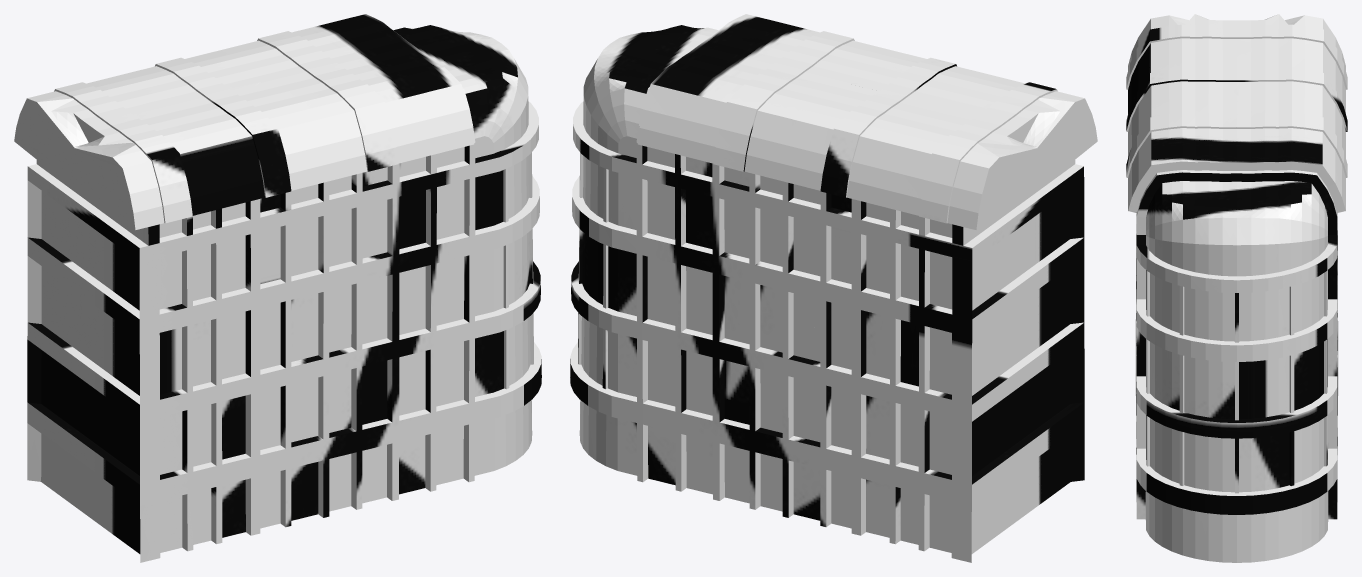
3 renders of one model, left to right at view 1: azimuth 30°, elevation 25°; view 2: azimuth 150°, elevation 25°; view 3: azimuth 270°, elevation 25°, orthographic. The views are drawn at different scales.
Visible parts, largest first — view 1: h_bd4_Part_20, h_bd4_Part_22, h_bd4_Part_5, h_bd4_Part_14, h_bd4_Part_30, h_bd4_Part_1, h_bd4_Part_17, h_bd4_Part_8, h_bd4_Part_9, h_bd4_Part_11, h_bd4_Part_26, h_bd4_Part_10 (+10 smaller); view 2: h_bd4_Part_7, h_bd4_Part_10, h_bd4_Part_4, h_bd4_Part_21, h_bd4_Part_2, h_bd4_Part_3, h_bd4_Part_15, h_bd4_Part_19, h_bd4_Part_11, h_bd4_Part_5, h_bd4_Part_27, h_bd4_Part_28 (+11 smaller); view 3: h_bd4_Part_17, h_bd4_Part_15, h_bd4_Part_29, h_bd4_Part_10, h_bd4_Part_6, h_bd4_Part_12, h_bd4_Part_23, h_bd4_Part_20, h_bd4_Part_11, h_bd4_Part_13, h_bd4_Part_2, h_bd4_Part_14 (+6 smaller).
Part boxes in pixels (x1,y1,x2,y2): h_bd4_Part_20: [187, 74, 418, 231]; h_bd4_Part_22: [69, 281, 310, 477]; h_bd4_Part_5: [76, 399, 290, 562]; h_bd4_Part_14: [366, 62, 501, 315]; h_bd4_Part_30: [277, 193, 395, 404]; h_bd4_Part_1: [77, 183, 260, 341]; h_bd4_Part_17: [386, 42, 538, 255]; h_bd4_Part_8: [282, 408, 461, 527]; h_bd4_Part_9: [327, 295, 508, 418]; h_bd4_Part_11: [25, 88, 226, 232]; h_bd4_Part_26: [164, 226, 298, 344]; h_bd4_Part_10: [144, 20, 391, 88]; h_bd4_Part_7: [802, 123, 1021, 322]; h_bd4_Part_10: [677, 41, 879, 245]; h_bd4_Part_4: [803, 313, 1021, 444]; h_bd4_Part_21: [615, 347, 796, 511]; h_bd4_Part_2: [580, 172, 724, 357]; h_bd4_Part_3: [824, 391, 1022, 562]; h_bd4_Part_15: [573, 43, 711, 227]; h_bd4_Part_19: [753, 90, 930, 295]; h_bd4_Part_11: [919, 74, 1040, 241]; h_bd4_Part_5: [1010, 327, 1084, 525]; h_bd4_Part_27: [782, 415, 918, 544]; h_bd4_Part_28: [689, 213, 806, 348]; h_bd4_Part_17: [1132, 148, 1251, 360]; h_bd4_Part_15: [1236, 151, 1345, 342]; h_bd4_Part_29: [1167, 269, 1318, 423]; h_bd4_Part_10: [1197, 68, 1347, 192]; h_bd4_Part_6: [1136, 342, 1331, 453]; h_bd4_Part_12: [1146, 418, 1335, 524]; h_bd4_Part_23: [1213, 458, 1337, 562]; h_bd4_Part_20: [1126, 58, 1241, 177]; h_bd4_Part_11: [1130, 14, 1326, 86]; h_bd4_Part_13: [1136, 461, 1214, 561]; h_bd4_Part_2: [1305, 271, 1337, 410]; h_bd4_Part_14: [1128, 140, 1216, 355].
Size of the model in its own units: 12.91 by 10.86 by 6.1.
